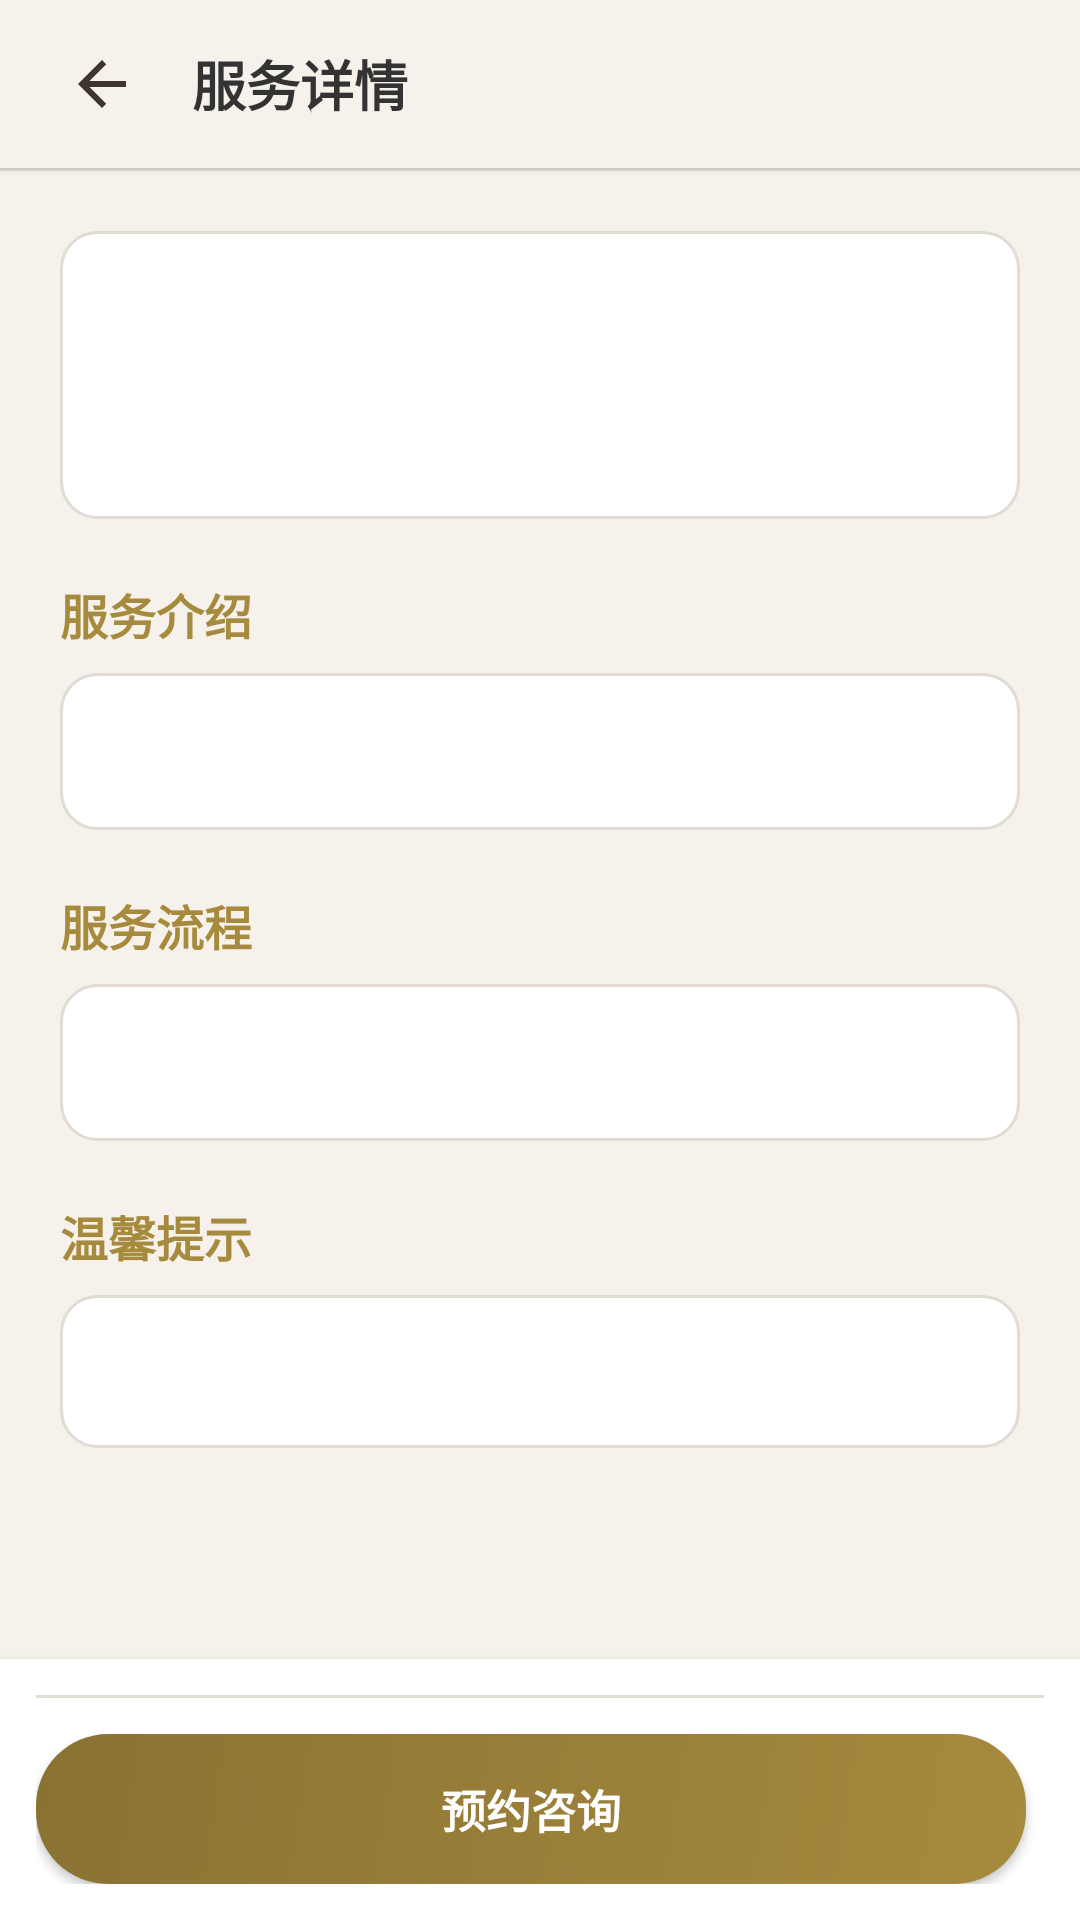

Named icons in this screenshot (1080x1920) and their bounding boxes, (x1, y1, x2, y2):
返回: (78, 60, 126, 108)
